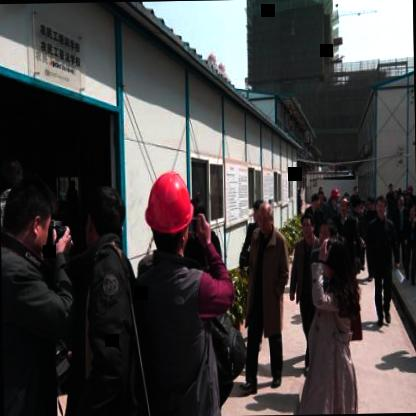head: (3, 173, 58, 260), (79, 180, 127, 254), (320, 238, 352, 286), (0, 147, 28, 187), (256, 198, 275, 236), (315, 216, 337, 245), (298, 212, 316, 242), (374, 190, 388, 218), (336, 195, 350, 217), (309, 192, 321, 211)
helmet: (137, 170, 196, 252), (330, 184, 340, 206)
